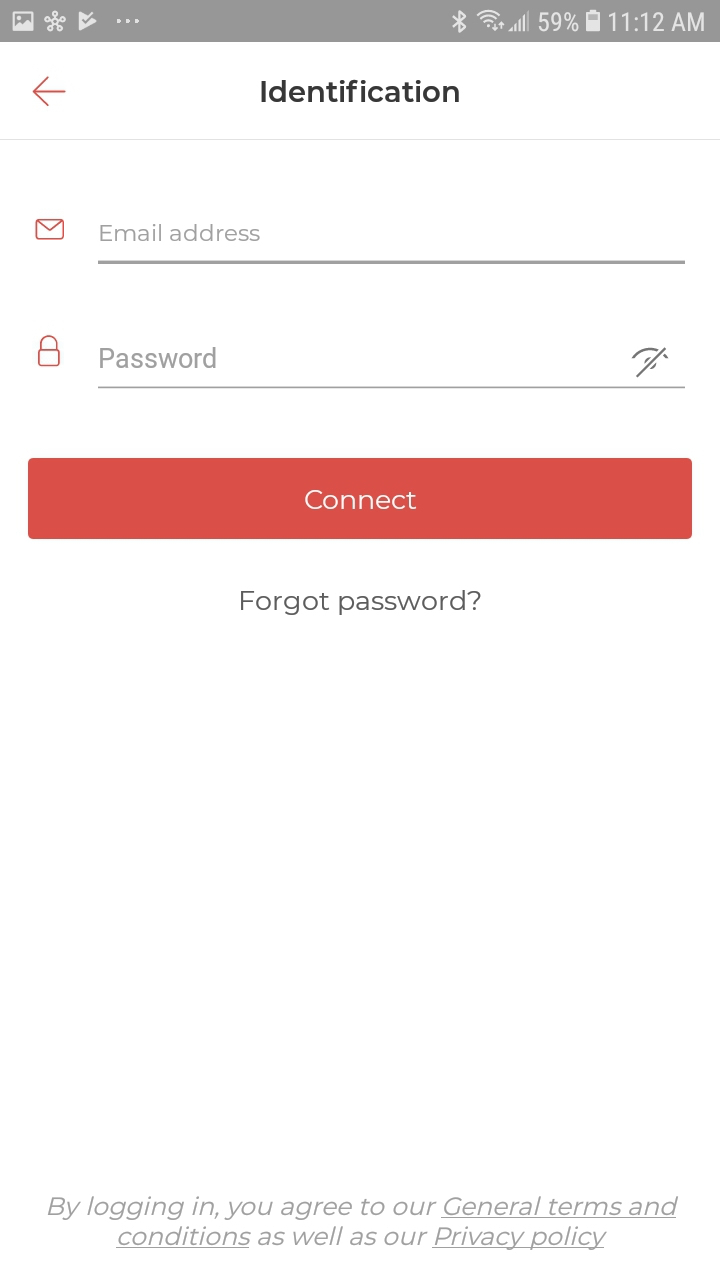EditText: (98, 347, 685, 390), (98, 224, 686, 266)
Icon: (632, 347, 670, 379), (33, 77, 67, 107), (38, 336, 61, 368), (36, 218, 66, 241)
Text: (47, 1195, 678, 1251), (241, 589, 482, 616), (261, 80, 460, 104), (100, 224, 261, 243), (100, 347, 217, 369)
TextButton: (29, 458, 693, 540)
UpperTaskBar: (1, 1, 720, 43)
